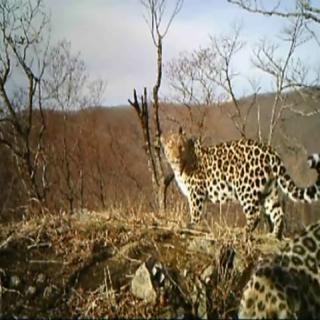Leopard: (141, 106, 320, 241)
